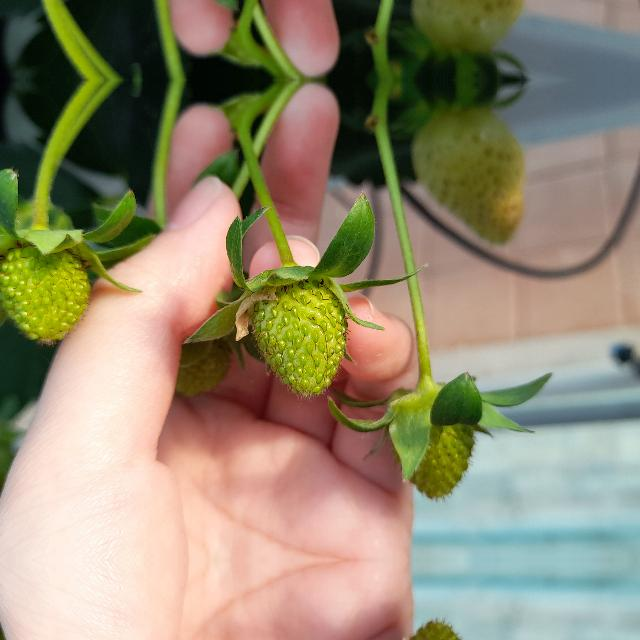Health_25: (250, 275, 348, 397)
